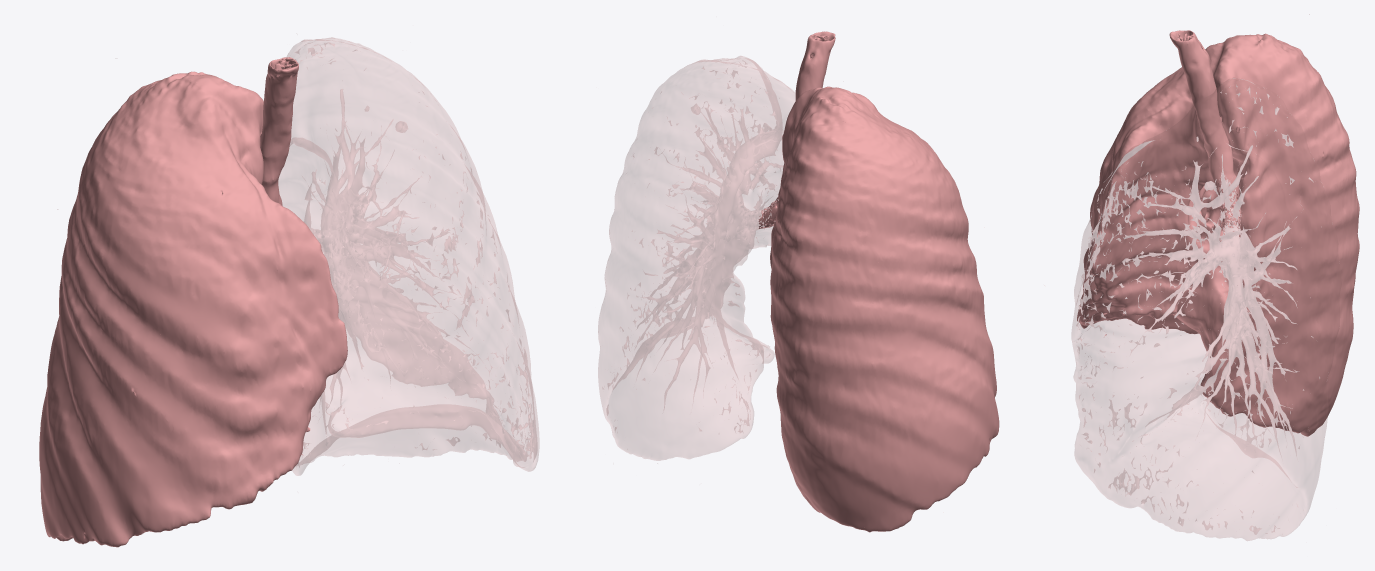
Rendered from healthy-lungs-semi-visible.glb.
The picture shows the model from 3 angles, left to right: view 1: azimuth 30°, elevation 25°; view 2: azimuth 150°, elevation 25°; view 3: azimuth 270°, elevation 25°; orthographic projection. The views are drawn at different scales.
Visible parts, largest first — view 1: HealthyLungSemiVisible; view 2: HealthyLungSemiVisible; view 3: HealthyLungSemiVisible.
Boxes of the visible parts, x1=… form: HealthyLungSemiVisible: x1=39, y1=37, x2=539, y2=547; HealthyLungSemiVisible: x1=598, y1=31, x2=999, y2=532; HealthyLungSemiVisible: x1=1071, y1=14, x2=1359, y2=540.
Size of the model in its own units: 320 by 317 by 208.
